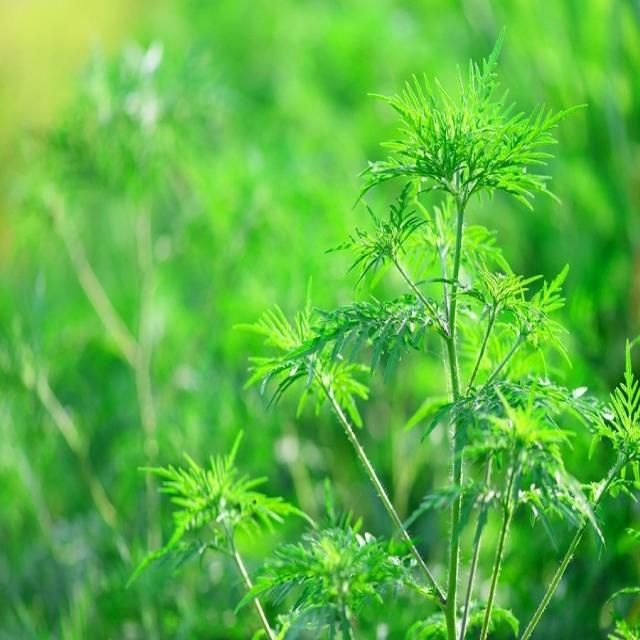ambrosia: (332, 66, 574, 392), (182, 270, 367, 622), (451, 306, 640, 554), (160, 420, 287, 596)
